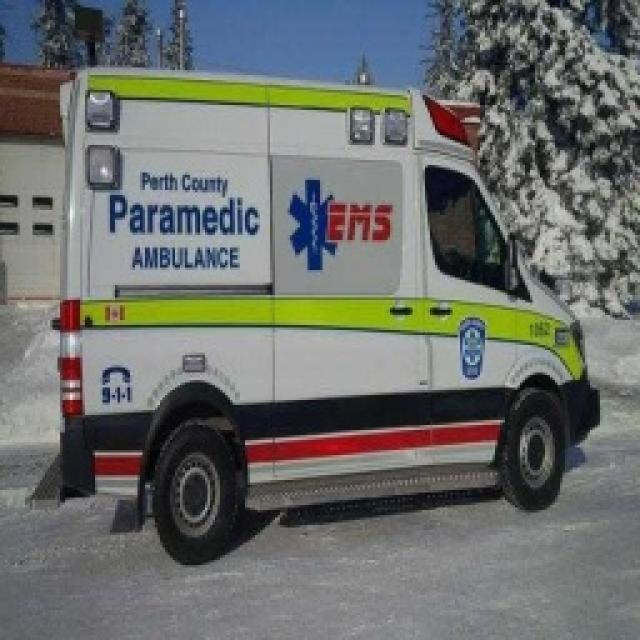emergency-vehicle: (12, 29, 638, 590)
